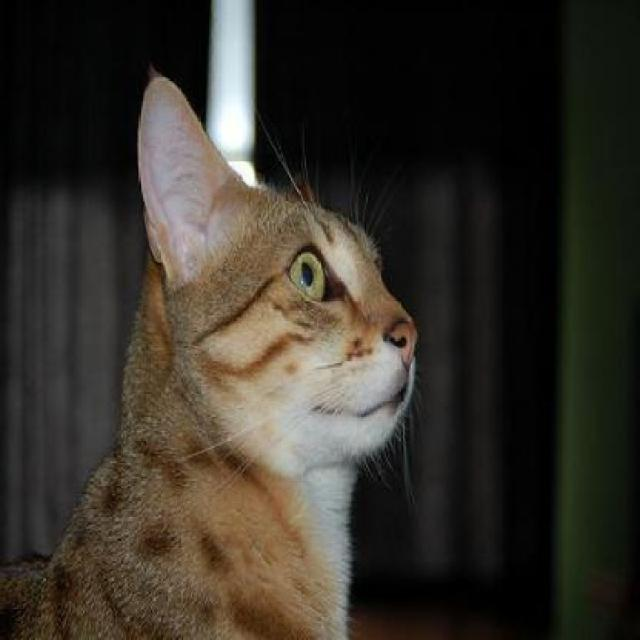cat: (0, 72, 417, 638)
